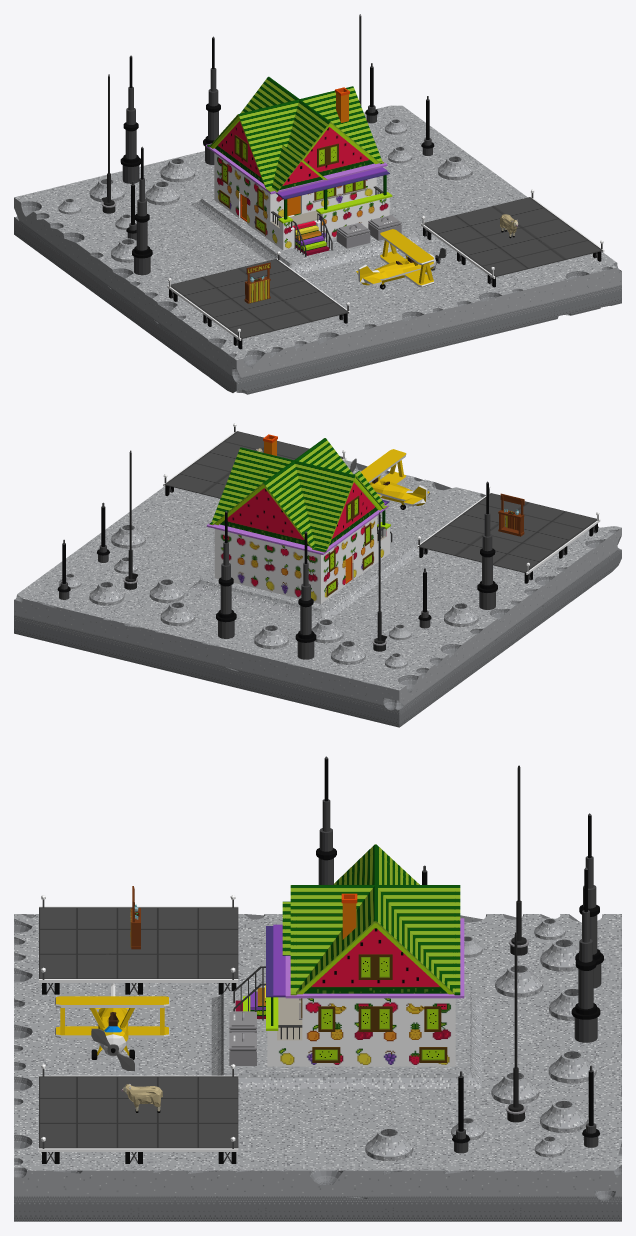
3 renders of one model, top to bottom at view 1: azimuth 30°, elevation 25°; view 2: azimuth 150°, elevation 25°; view 3: azimuth 270°, elevation 25°, orthographic. The views are drawn at different scales.
Visible parts, largest first — view 1: Cube.027, Cube.1063, Cube.026, Cube.025, Cube.028, VEHICLES_AIRPLANE, Cylinder.020, Cylinder.021, Cylinder.017, OBJRANDOM_LEMONADE_STAND, Cube.029, Cylinder.027 (+4 smaller); view 2: Cube.027, Cube.1063, Cube.025, Cube.028, Cube.026, VEHICLES_AIRPLANE, Cylinder.020, Cylinder.021, Cylinder.017, OBJRANDOM_LEMONADE_STAND, Cylinder.031, Cylinder.028 (+8 smaller); view 3: Cube.027, Cube.1063, Cube.025, Cube.026, Cube.028, VEHICLES_AIRPLANE, Cylinder.017, Cylinder.020, Cylinder.021, Cylinder.033, Cylinder.031, Cylinder.029 (+10 smaller).
Boxes of the visible parts, x1,y1,x2,y2 form: Cube.027: (14, 105, 621, 394); Cube.1063: (205, 76, 392, 256); Cube.026: (421, 189, 604, 287); Cube.025: (167, 251, 350, 349); Cube.028: (191, 195, 424, 274); VEHICLES_AIRPLANE: (356, 229, 446, 289); Cylinder.020: (120, 55, 140, 183); Cylinder.021: (132, 146, 152, 275); Cylinder.017: (203, 36, 220, 164); OBJRANDOM_LEMONADE_STAND: (244, 262, 270, 303); Cube.029: (336, 222, 370, 248); Cylinder.027: (160, 158, 195, 182); Cube.027: (14, 460, 621, 727); Cube.1063: (206, 434, 392, 603); Cube.025: (417, 485, 600, 583); Cube.028: (190, 538, 419, 620); Cube.026: (163, 423, 346, 498); VEHICLES_AIRPLANE: (350, 449, 429, 509); Cylinder.020: (295, 531, 316, 659); Cylinder.021: (477, 481, 497, 609); Cylinder.017: (216, 510, 236, 638); OBJRANDOM_LEMONADE_STAND: (498, 493, 524, 536); Cylinder.031: (89, 581, 124, 605); Cylinder.028: (331, 640, 365, 664); Cube.027: (14, 914, 621, 1221); Cube.1063: (233, 844, 464, 1066); Cube.025: (39, 895, 238, 994); Cube.026: (39, 1064, 238, 1163); Cube.028: (211, 991, 481, 1088); VEHICLES_AIRPLANE: (55, 983, 169, 1071); Cylinder.017: (571, 867, 600, 1042); Cylinder.020: (575, 813, 603, 988); Cylinder.021: (316, 756, 336, 884); Cylinder.033: (365, 1128, 413, 1160); Cylinder.031: (540, 1100, 587, 1132); Cylinder.029: (548, 1050, 596, 1083).
Size of the model in its own units: 4000 by 1900 by 4000.
41 materials, 6 textured.
